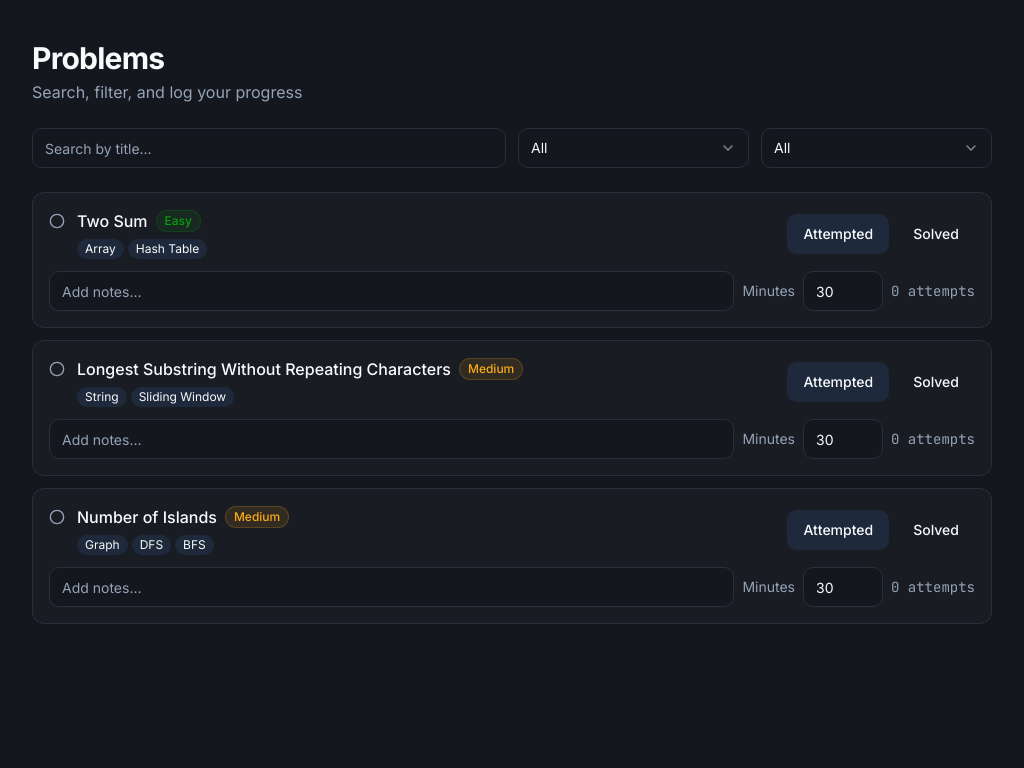
Test case: Problems page: catalog and filtering › filters by difficulty
The image size is (1024, 768).
Click the 1st dropdown labelled "All" at {"x": 634, "y": 148}, box top-left (518, 128), bottom-right (749, 168)
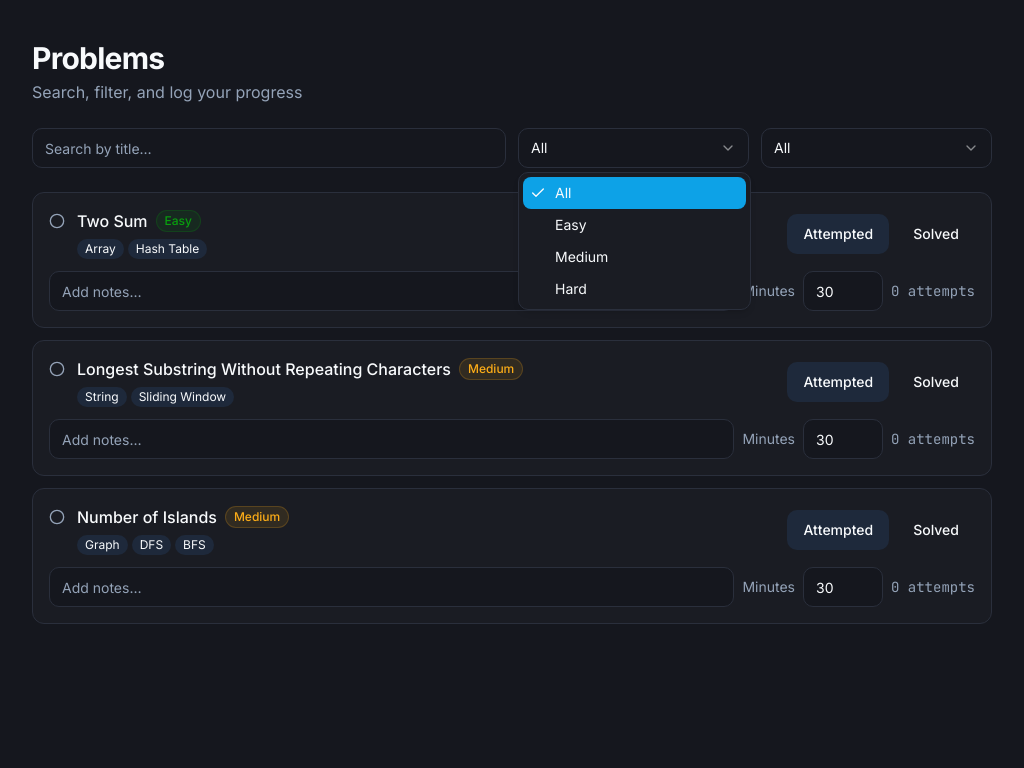
Click the option "Easy" at {"x": 571, "y": 224}, box top-left (555, 216), bottom-right (586, 233)
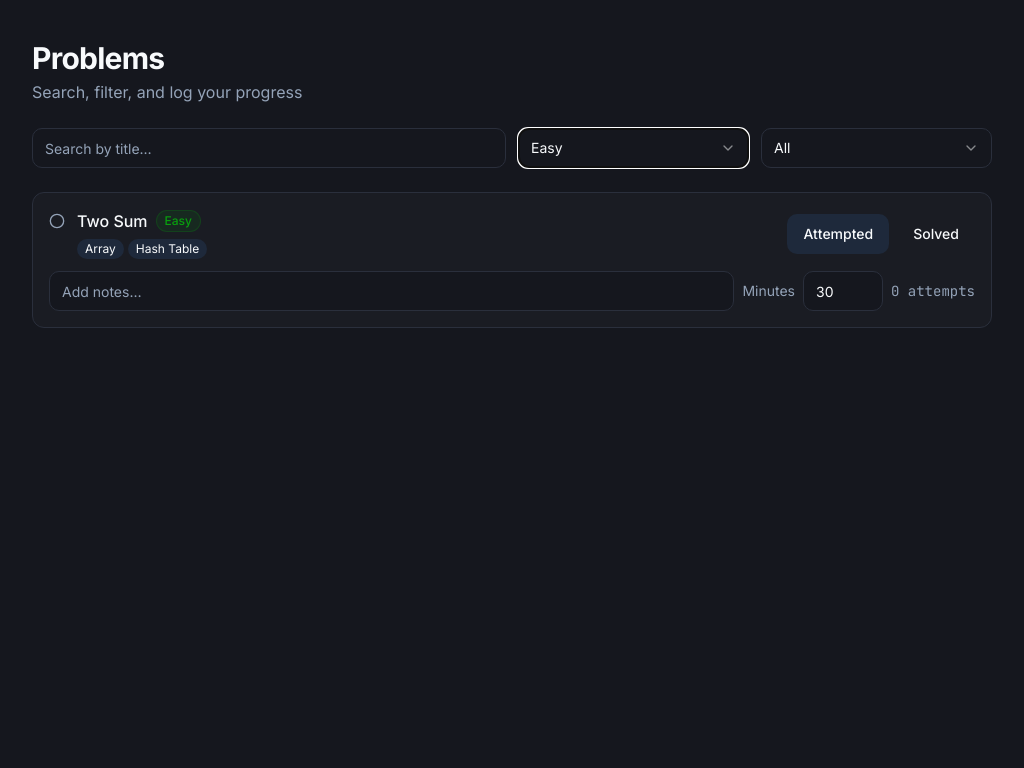
Check: the link "Two Sum" is shown, box top-left (77, 209), bottom-right (148, 233)
Check: the link "Number of Islands" is gone
